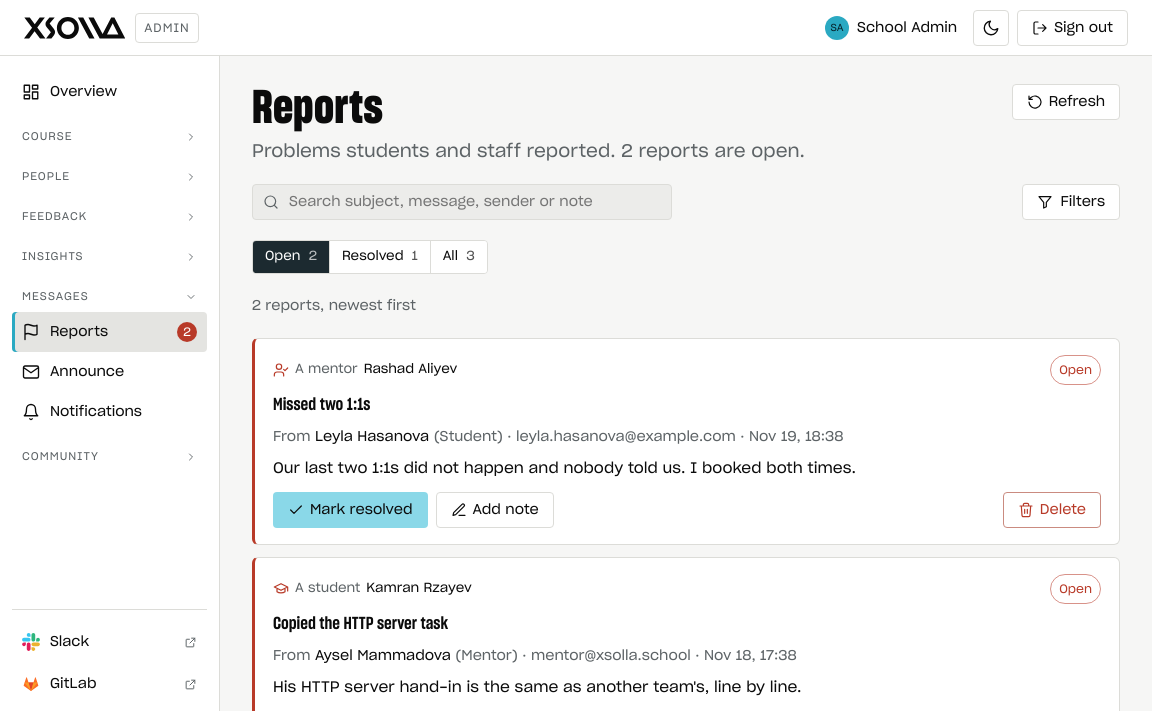
Test case: Admin: reports › filters by who sent it and searches; a report sent meanwhile shows up by itself
The image size is (1152, 711).
Click the button "Filters" at (1071, 202), box [1022, 184, 1120, 220]
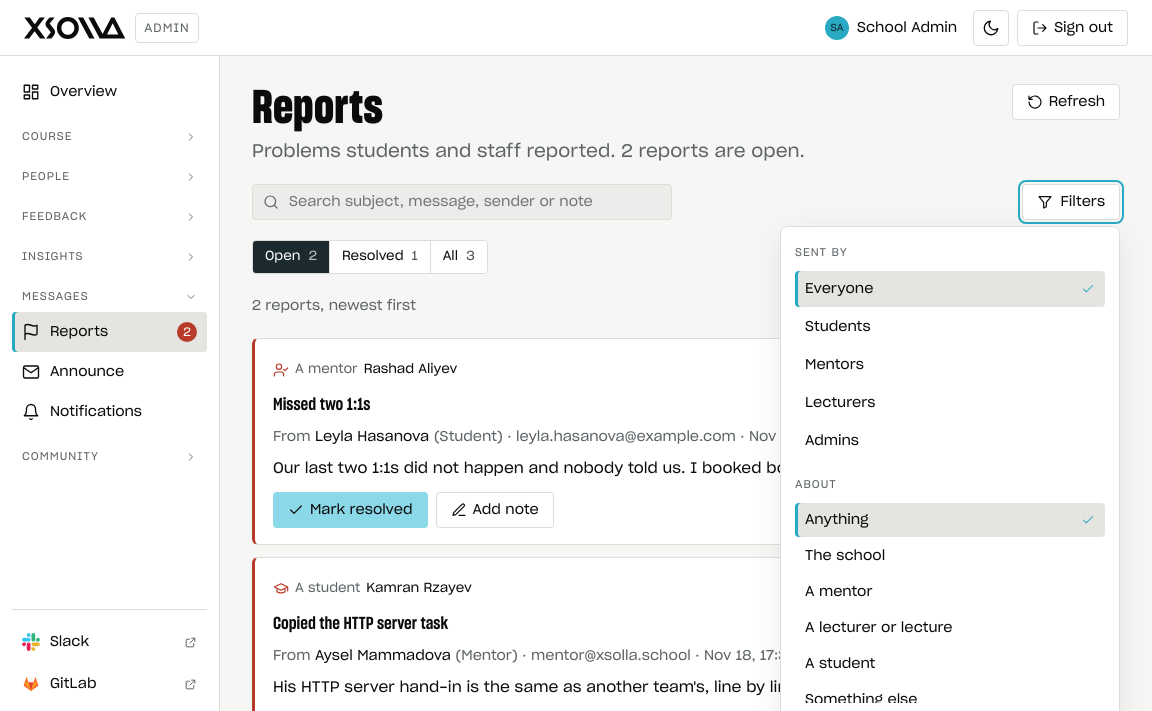
Click the radio button labelled "Mentors" at (834, 365), box [805, 358, 864, 372]
(page scrolled)
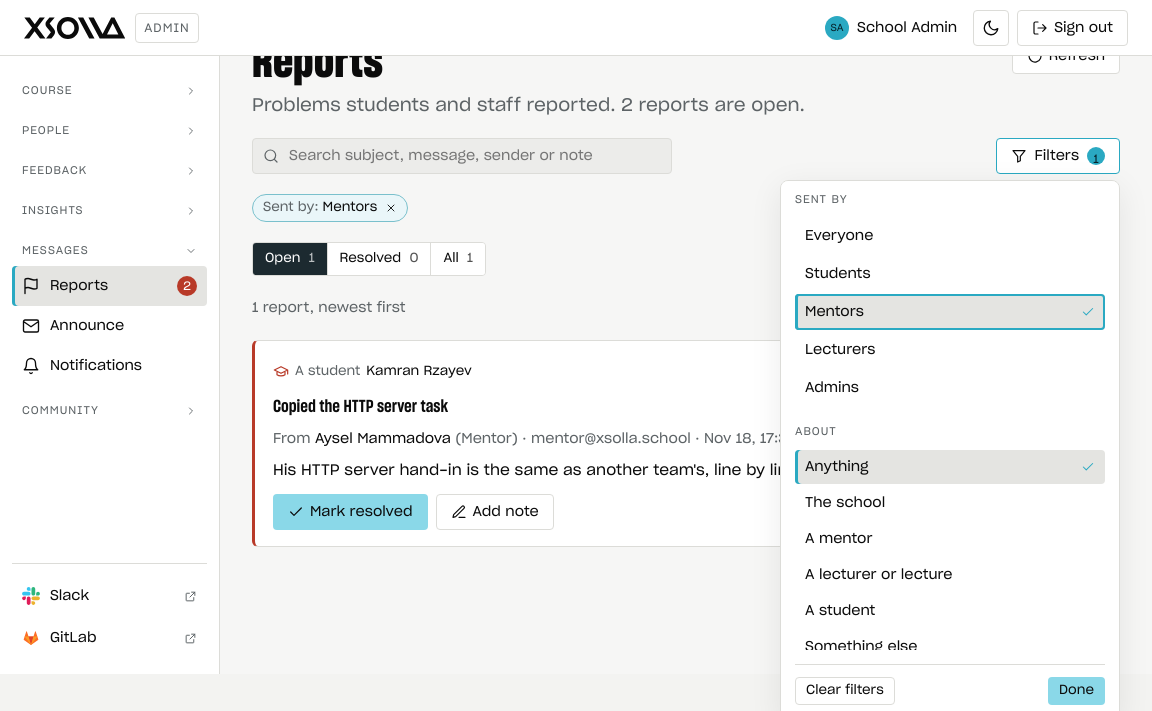
Expected: the list item that starts with "A student" is shown, [252, 340, 1120, 547]
Click the button "Clear filters" at (845, 691), box [795, 677, 895, 705]
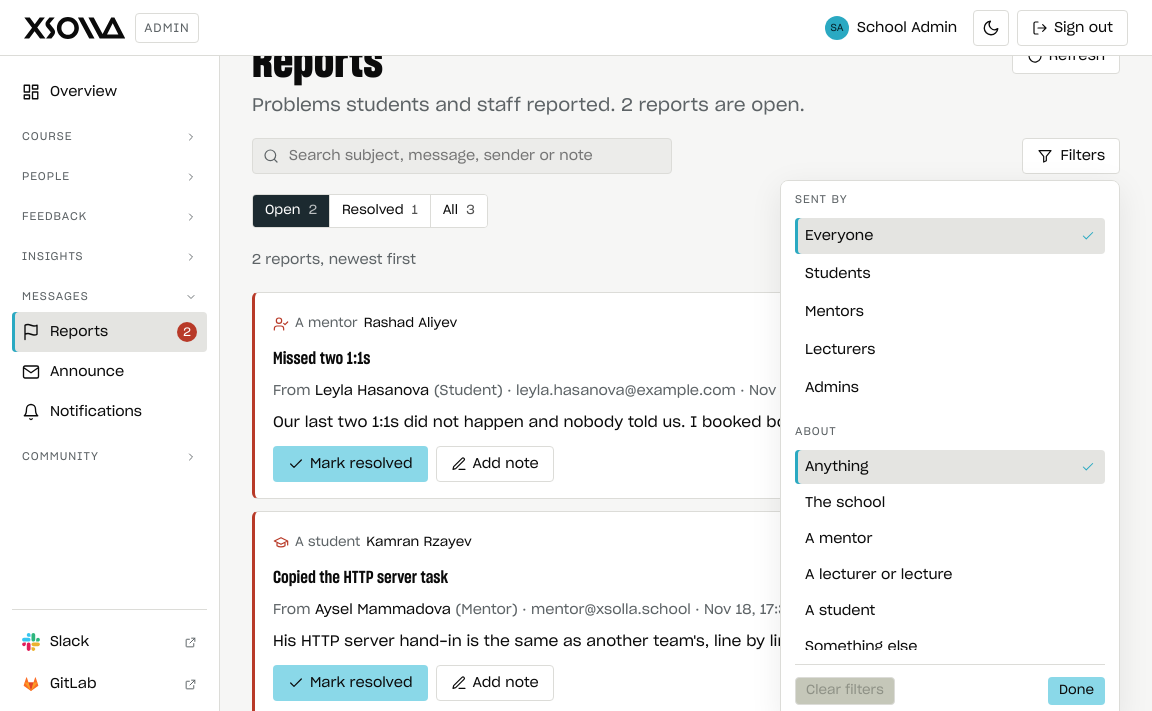
Type "heating" into the search field named "Search reports" at (474, 156), box [287, 139, 661, 173]
(page scrolled)
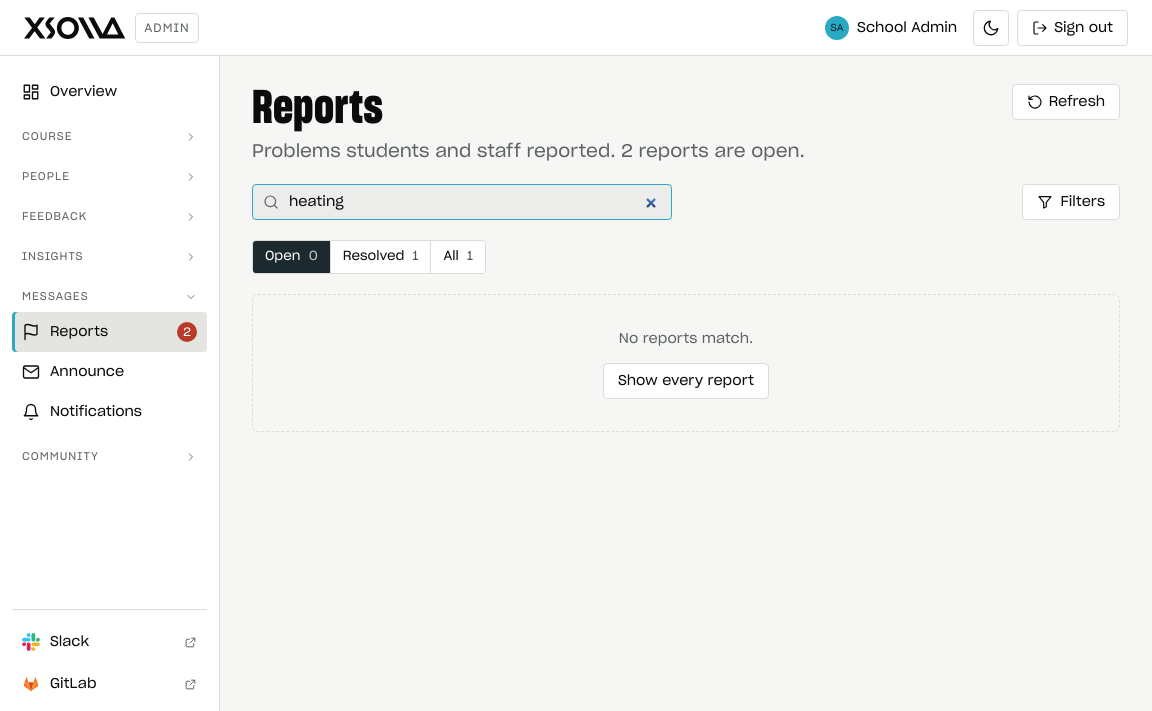
Expected: the text "No reports match." is shown, [619, 332, 753, 346]
Click the button "All 1" at (458, 257), box [431, 241, 485, 273]
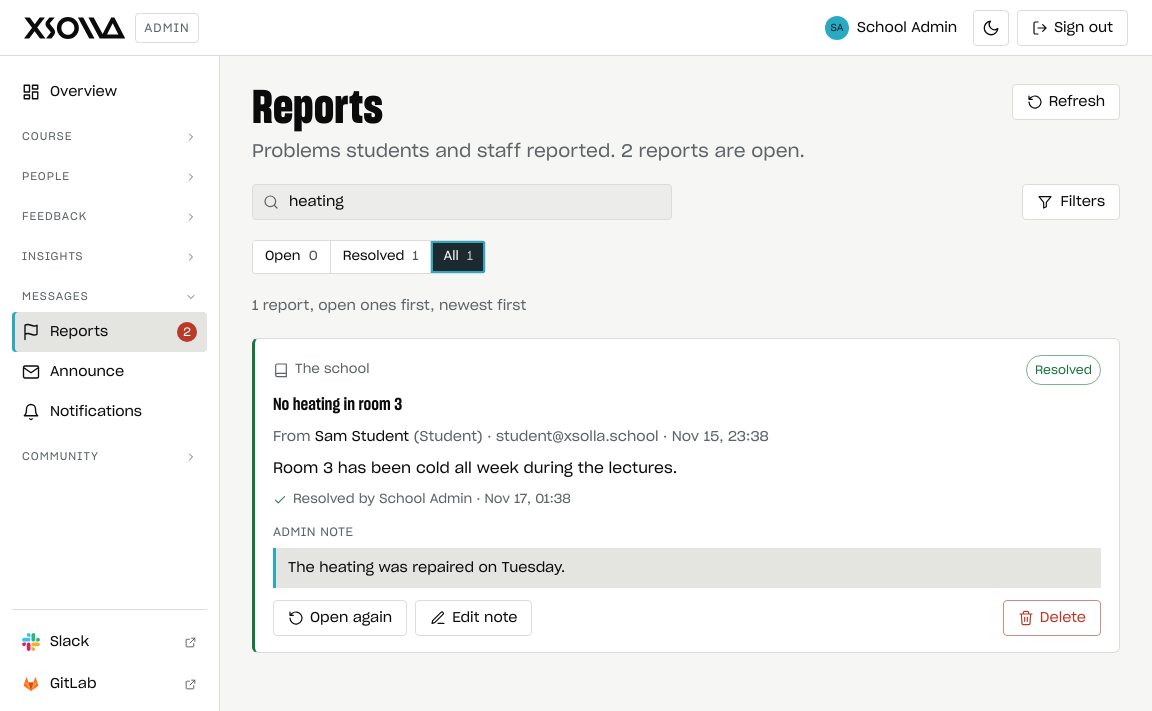
Expected: the list item "No heating in room 3" shows "The heating was repaired on Tuesday.", [288, 561, 565, 575]
Clear the search field named "Search reports" at (474, 202), box [287, 185, 661, 219]
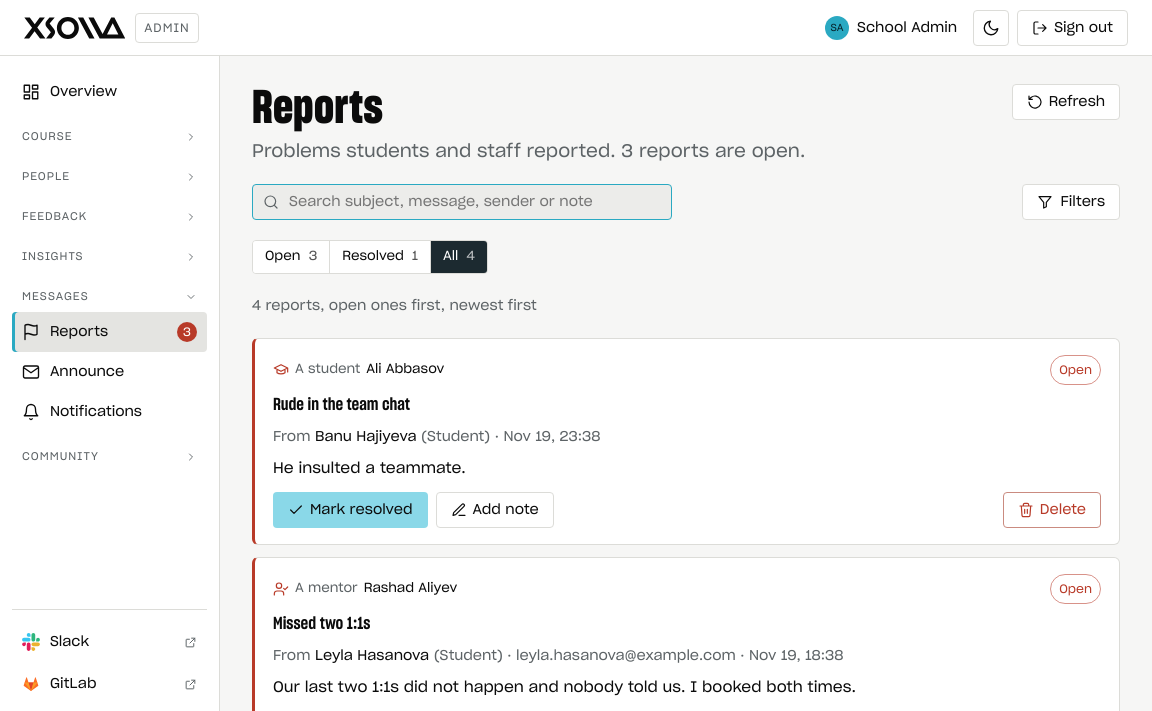
Expected: the list item "Rude in the team chat" shows "From Banu Hajiyeva (Student)", [252, 338, 1120, 545]
